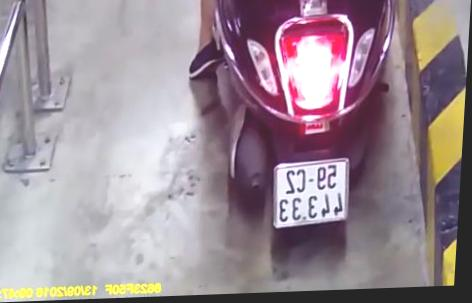License_Plate: (263, 153, 361, 232)
